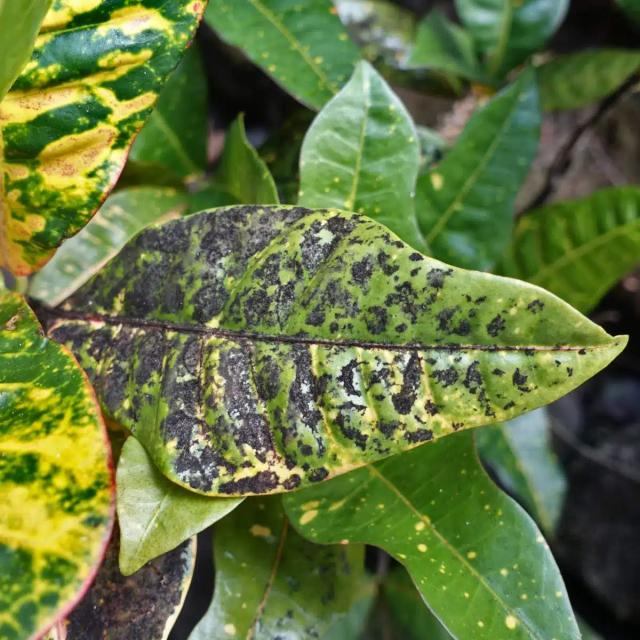Sooty Mold: (38, 202, 629, 499)
